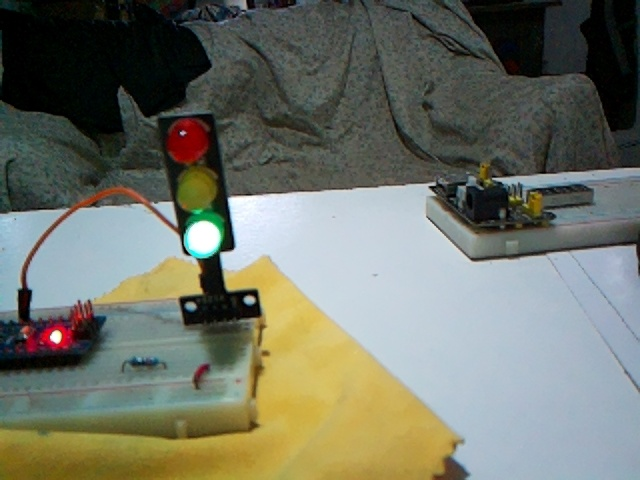traffic_light_green: (158, 113, 233, 259)
